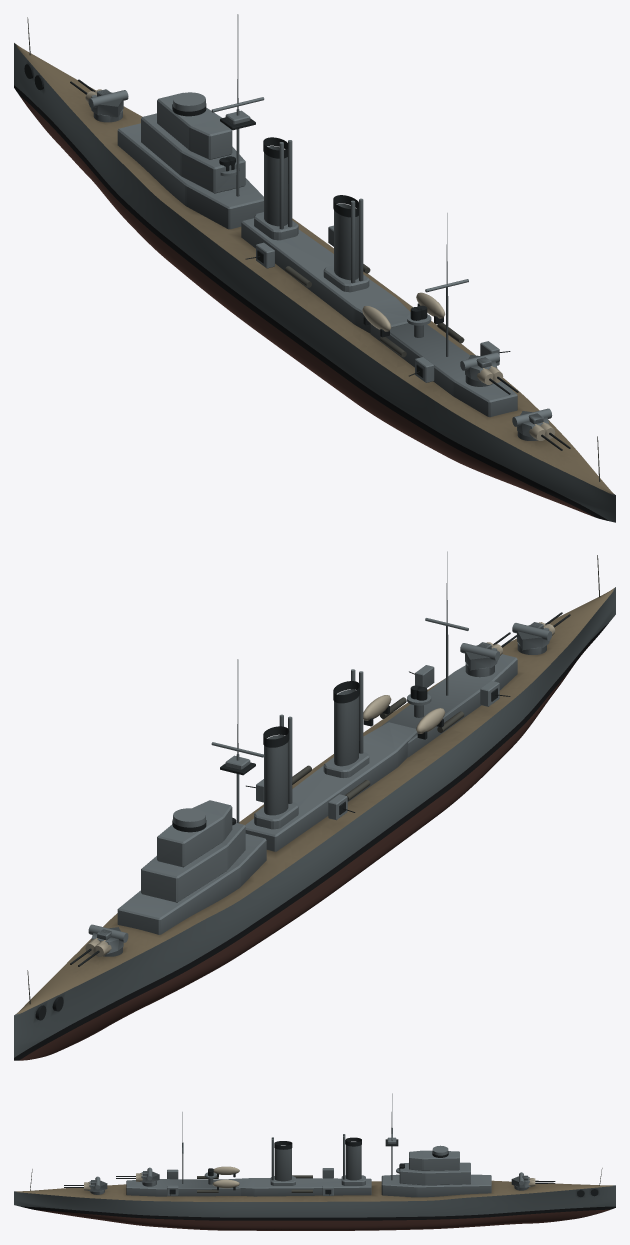
File: hatsuyuki.glb
3 views of the same model, one above another, from view 1: azimuth 30°, elevation 25°; view 2: azimuth 150°, elevation 25°; view 3: azimuth 270°, elevation 25° (orthographic). The views are drawn at different scales.
Visible parts, largest first — view 1: hatsuyuki; view 2: hatsuyuki; view 3: hatsuyuki.
Part boxes in pixels (left/top/right/bottom): hatsuyuki: left=14, top=14, right=615, bottom=522; hatsuyuki: left=14, top=551, right=615, bottom=1060; hatsuyuki: left=14, top=1093, right=615, bottom=1230.
Size of the model in its own units: 12.38 by 28.98 by 118.
